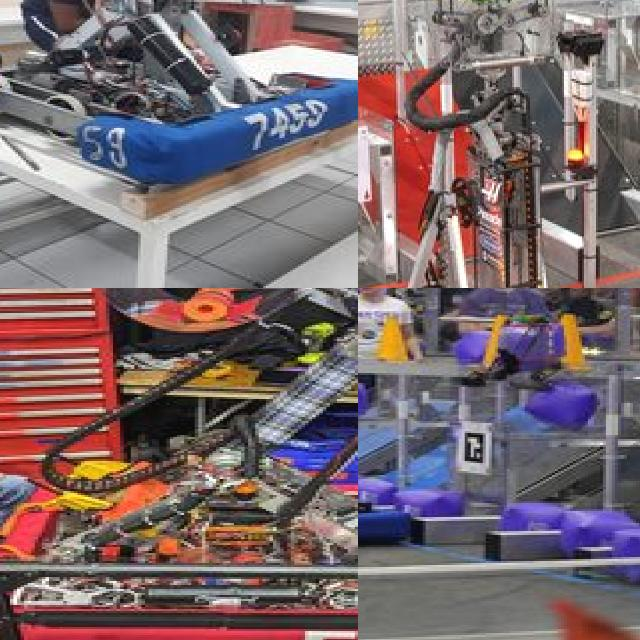FRC-Robots: (0, 288, 358, 640), (0, 0, 358, 288), (358, 0, 600, 288), (358, 288, 496, 552)
